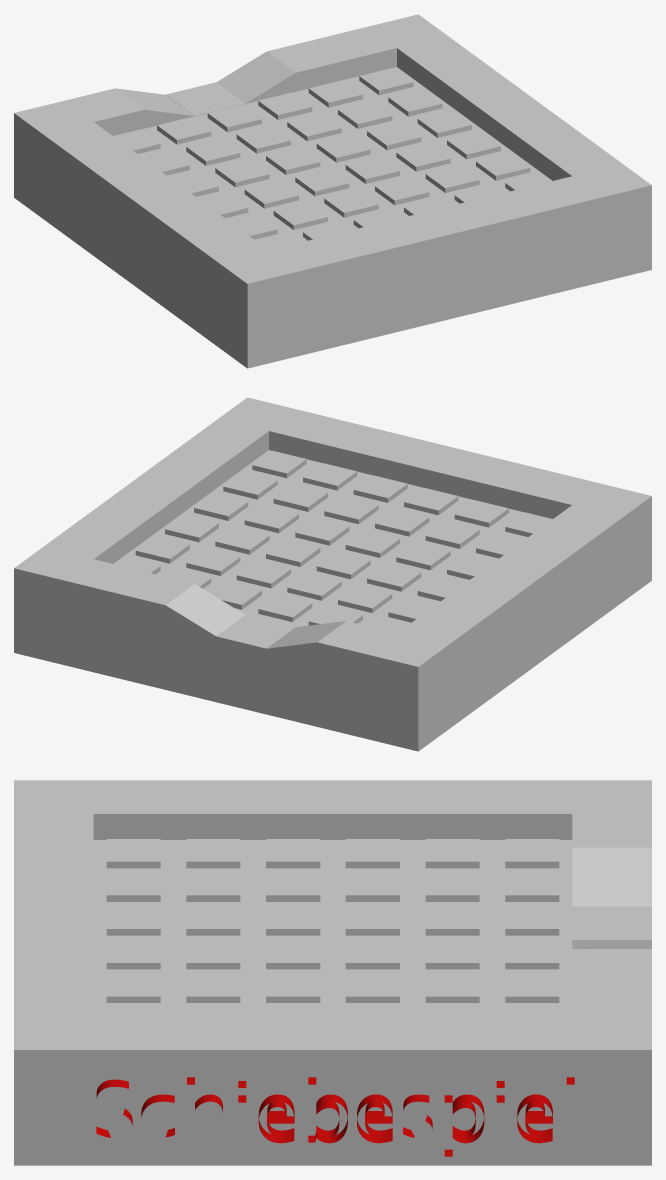
Rendered from streets.dae.
3 renders of one model, top to bottom at view 1: azimuth 30°, elevation 25°; view 2: azimuth 150°, elevation 25°; view 3: azimuth 270°, elevation 25°, orthographic. The views are drawn at different scales.
Parts seen in each view (by area): view 1: Spielfeld; view 2: Spielfeld; view 3: Spielfeld, Extrudieren, Deckfläche_1.
Part boxes in pixels (x1=…): Spielfeld: x1=14, y1=14, x2=651, y2=368; Spielfeld: x1=14, y1=397, x2=651, y2=751; Spielfeld: x1=14, y1=780, x2=651, y2=1165; Extrudieren: x1=96, y1=1077, x2=574, y2=1156; Deckfläche_1: x1=96, y1=1084, x2=574, y2=1143.
Bounding box in the file's own units: 8.21 × 1.6 × 8.
